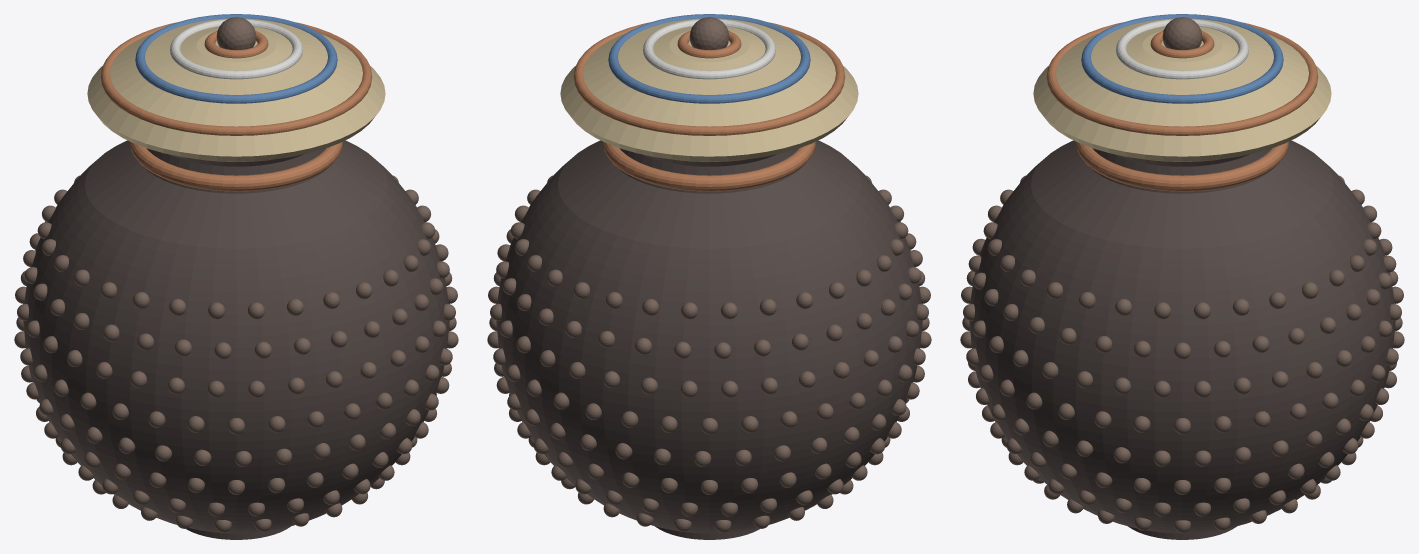
File: zulu_ukhamba_pot.glb
3 views of the same model, side by side, from view 1: azimuth 30°, elevation 25°; view 2: azimuth 150°, elevation 25°; view 3: azimuth 270°, elevation 25° (orthographic).
Visible parts, largest first — view 1: geometry_0, geometry_243, geometry_244, geometry_241, geometry_245, geometry_246, geometry_248, geometry_247; view 2: geometry_0, geometry_243, geometry_244, geometry_241, geometry_245, geometry_246, geometry_248, geometry_247; view 3: geometry_0, geometry_243, geometry_244, geometry_241, geometry_245, geometry_246, geometry_248, geometry_247.
Part boxes in pixels (<box>): geometry_0: <box>23,140,449,539</box>; geometry_243: <box>87,18,385,161</box>; geometry_244: <box>100,22,372,135</box>; geometry_241: <box>130,141,342,191</box>; geometry_245: <box>135,14,337,103</box>; geometry_246: <box>170,19,302,79</box>; geometry_248: <box>216,17,256,49</box>; geometry_247: <box>204,30,268,58</box>; geometry_0: <box>496,140,922,539</box>; geometry_243: <box>560,18,858,161</box>; geometry_244: <box>573,22,845,135</box>; geometry_241: <box>603,141,815,191</box>; geometry_245: <box>608,14,810,103</box>; geometry_246: <box>643,19,775,79</box>; geometry_248: <box>689,17,729,49</box>; geometry_247: <box>677,30,741,58</box>; geometry_0: <box>969,140,1395,539</box>; geometry_243: <box>1033,18,1331,161</box>; geometry_244: <box>1046,22,1318,135</box>; geometry_241: <box>1076,141,1288,191</box>; geometry_245: <box>1081,14,1283,103</box>; geometry_246: <box>1116,19,1248,79</box>; geometry_248: <box>1162,17,1202,49</box>; geometry_247: <box>1150,31,1214,58</box>.
Size of the model in its own units: 0.3336 by 0.41 by 0.3337.
